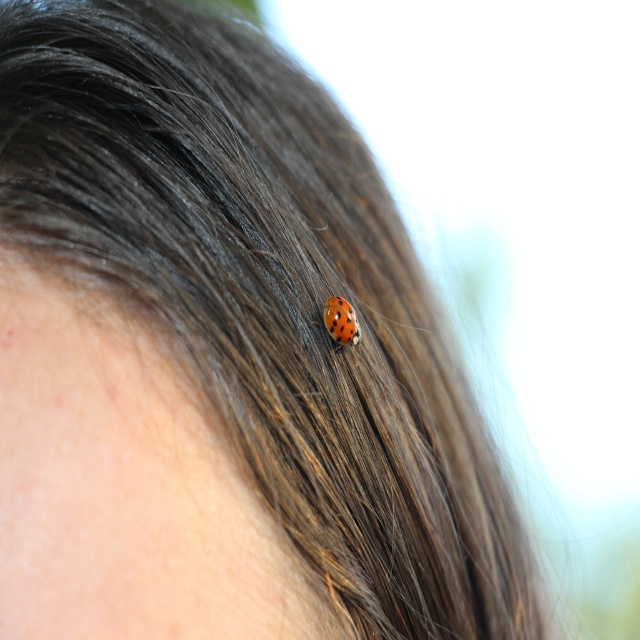Ladybug: (308, 298, 363, 368)
